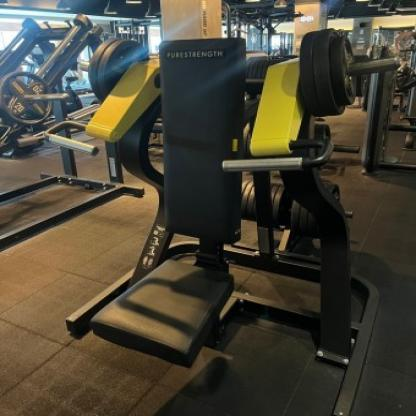shoulder press machine: (0, 0, 394, 416)
